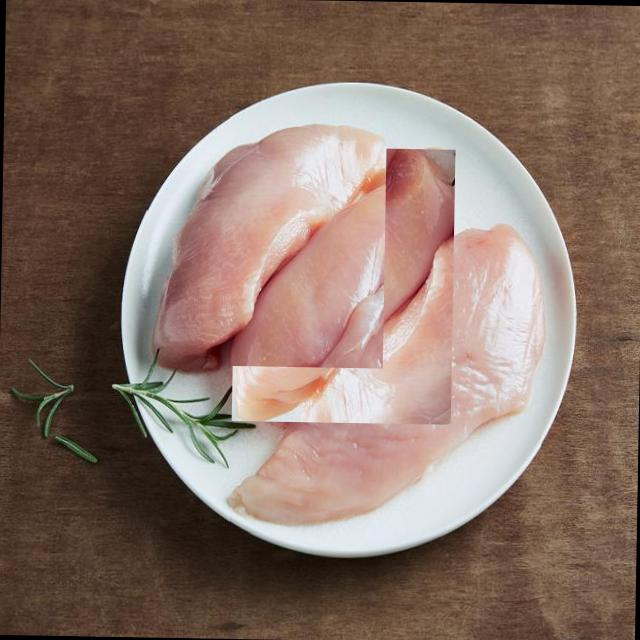chicken: (229, 220, 544, 538), (230, 144, 456, 424), (144, 116, 386, 368)
